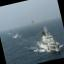fishing boat: (32, 22, 62, 56)
